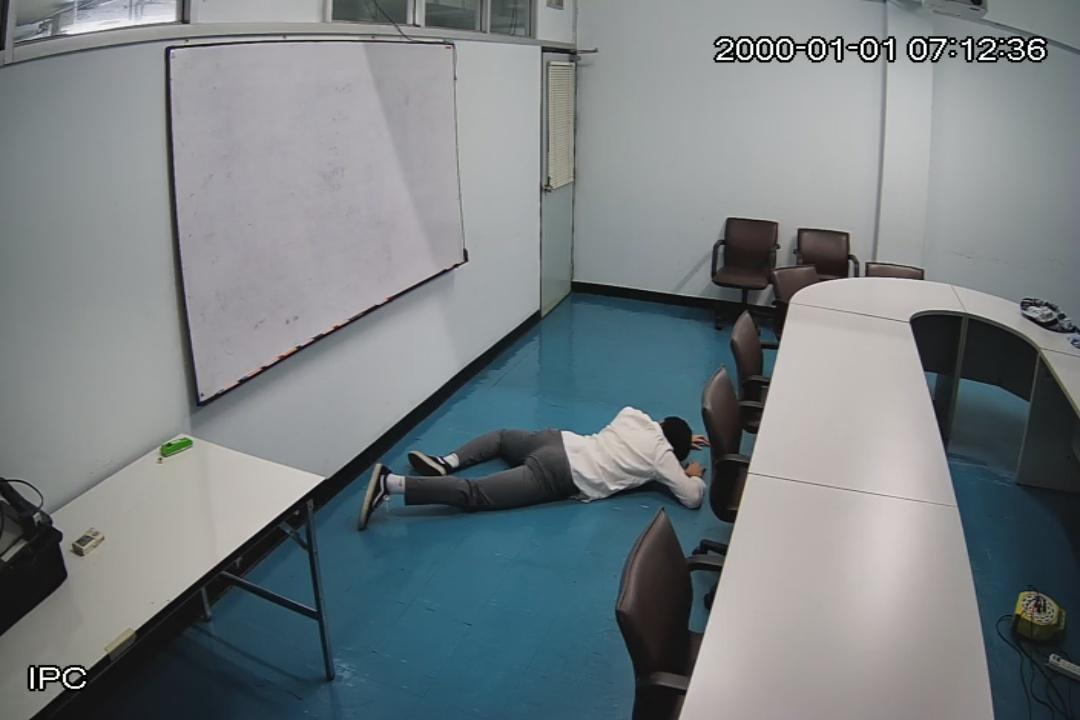fall: (344, 402, 716, 526)
